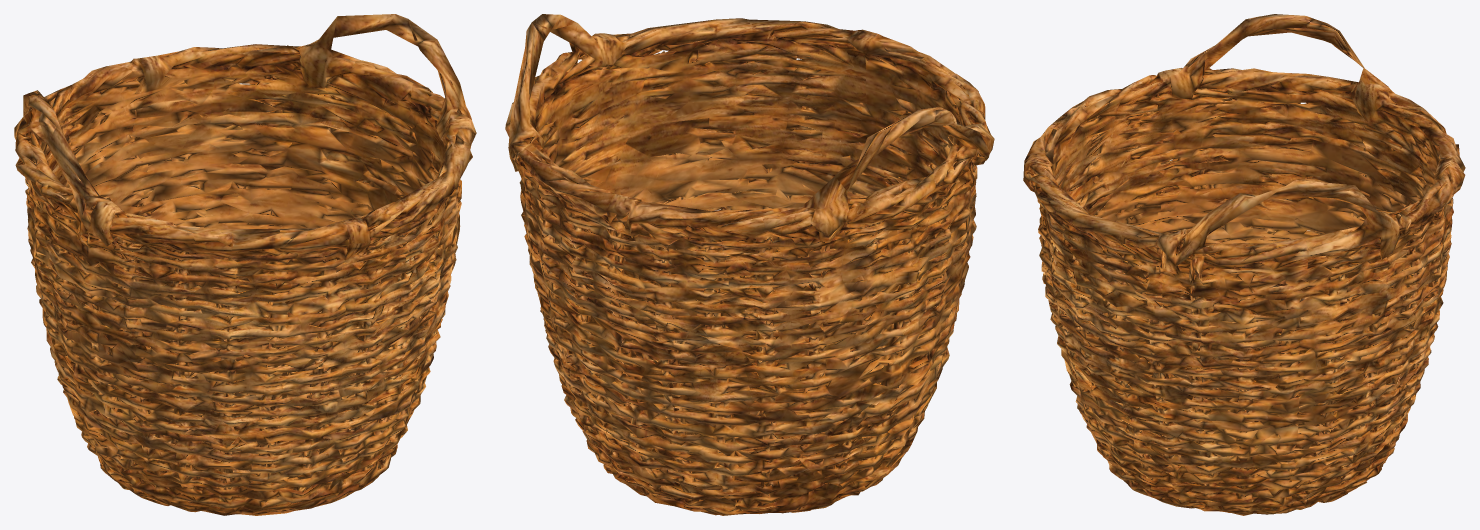
The model's file is woven-basket.glb.
3 renders of one model, left to right at view 1: azimuth 30°, elevation 25°; view 2: azimuth 150°, elevation 25°; view 3: azimuth 270°, elevation 25°, orthographic. The views are drawn at different scales.
Bounding box in the file's own units: 1.85 × 1.72 × 1.88.
1 material, 1 textured.
